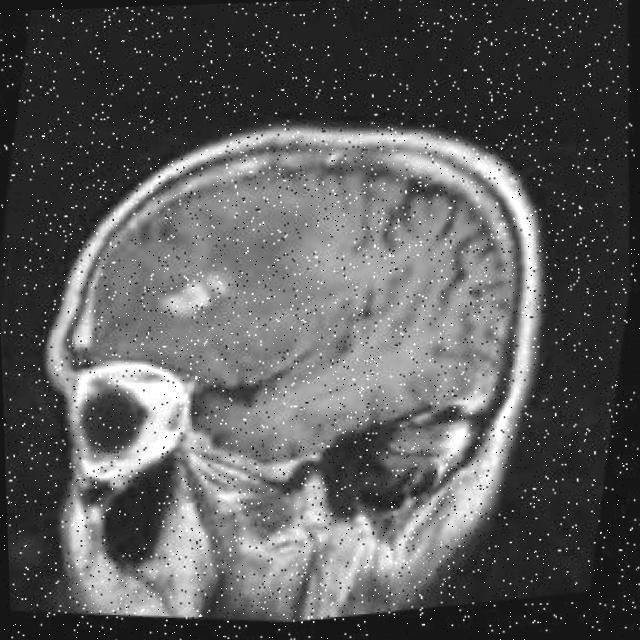CN: (124, 222, 270, 339)
